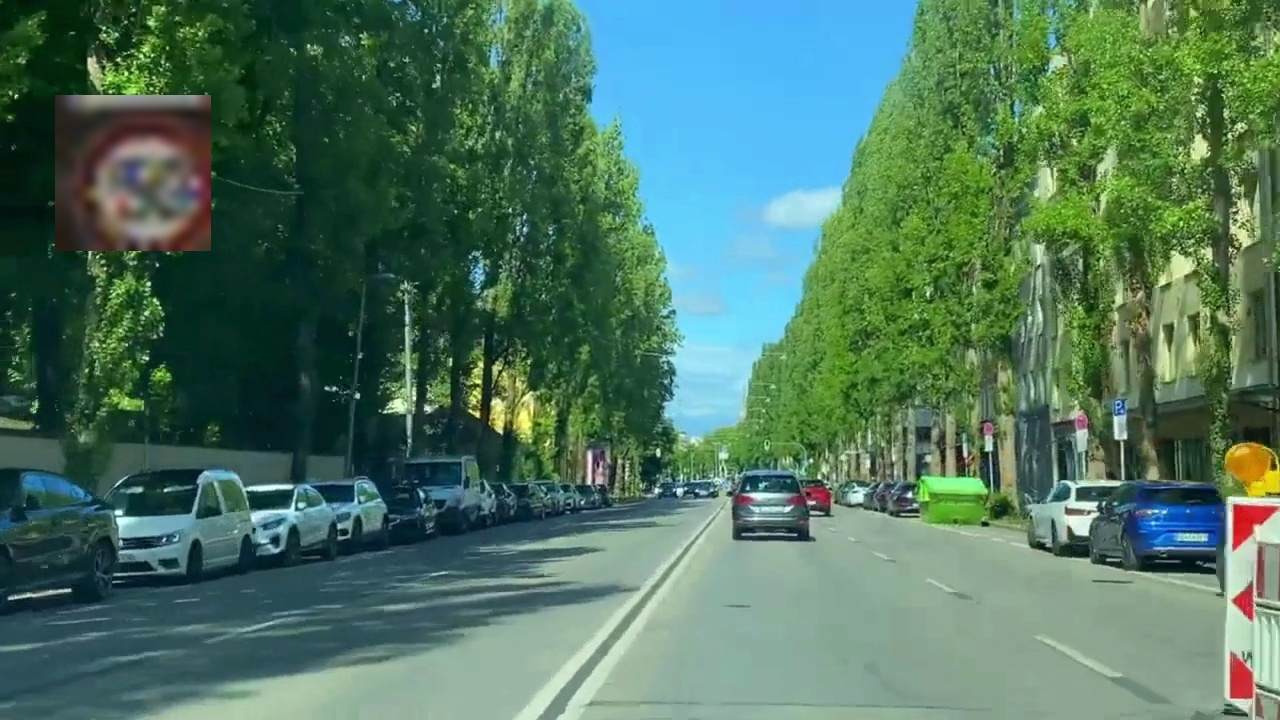Speed 50: (55, 95, 211, 251)
